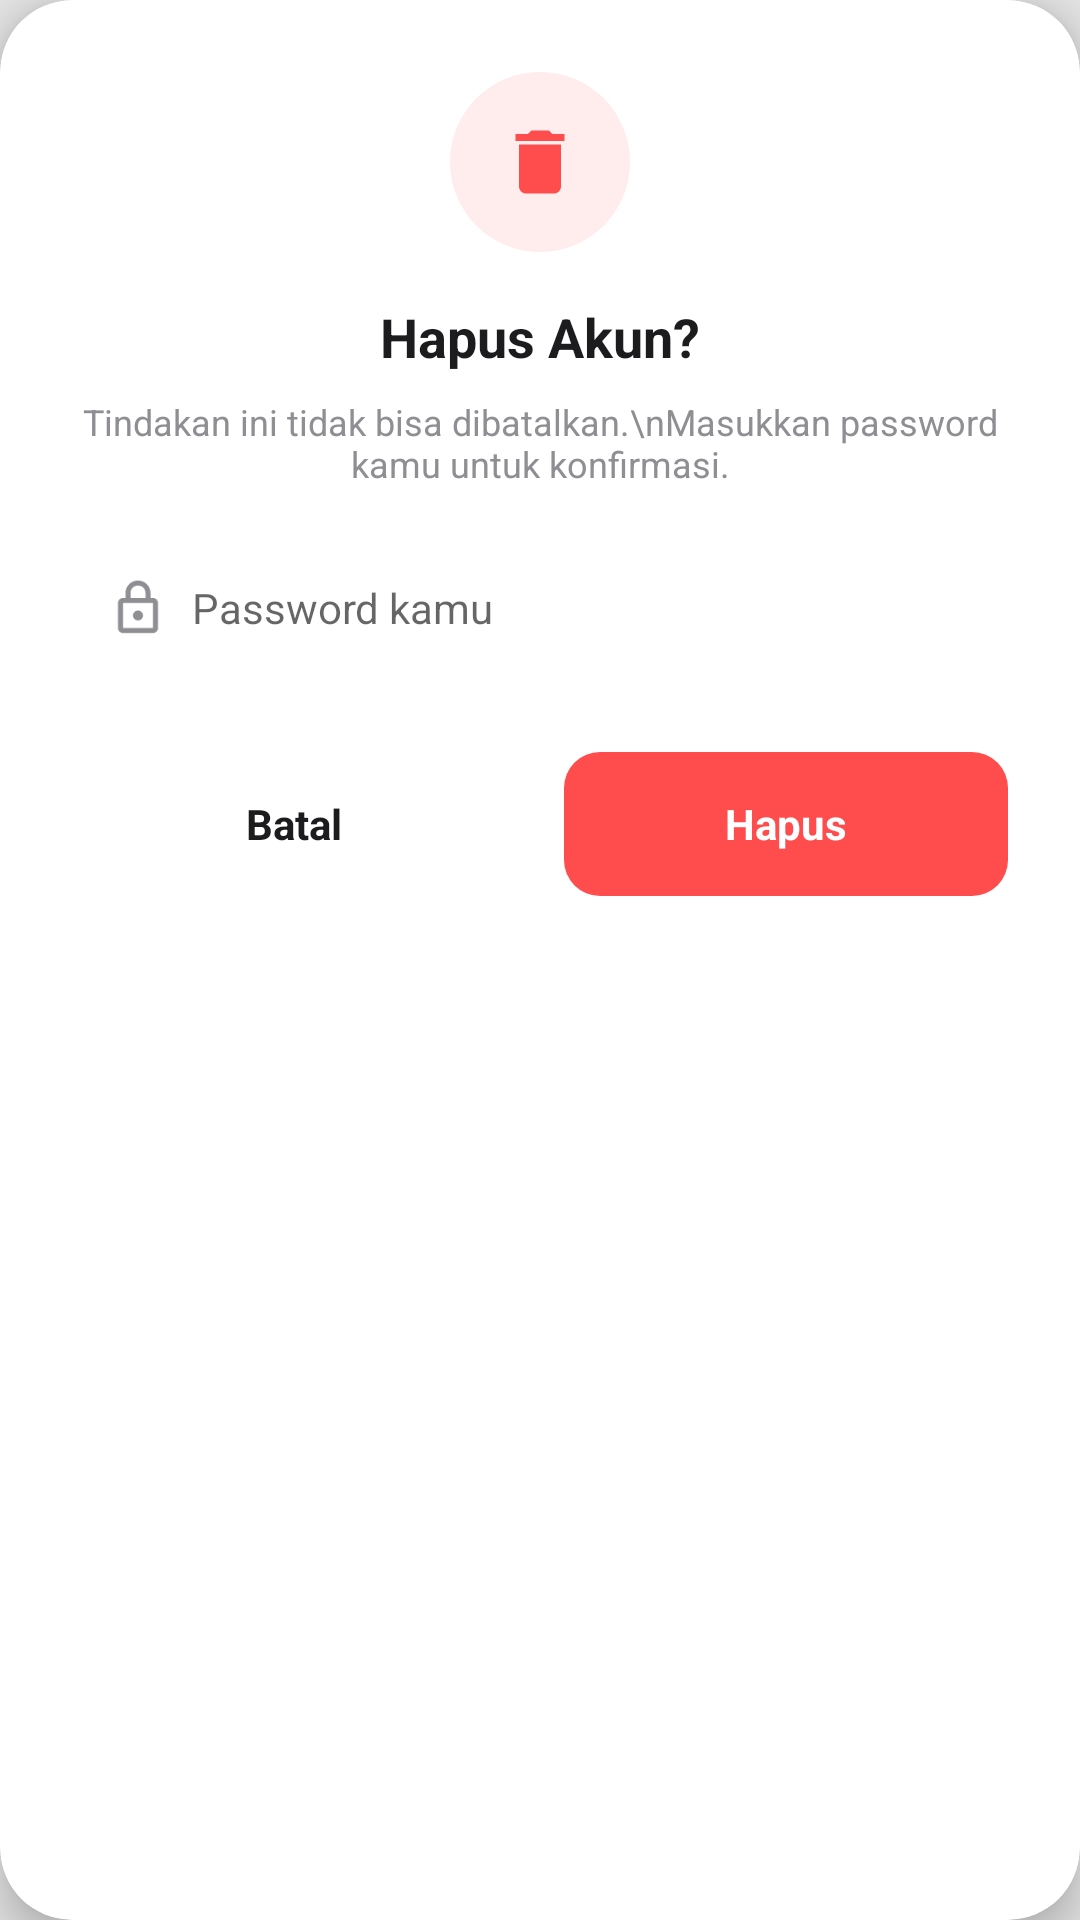

Screen size 1080px×1920px. Icon name, then its box in pixels as (x1, y1, x2, y2):
delete: (515, 130, 565, 194)
lock: (118, 580, 158, 633)
